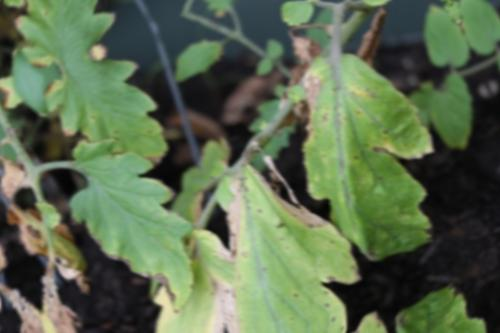Tomato Early blight leaf: (260, 30, 471, 281), (43, 106, 227, 333), (169, 133, 375, 333)
